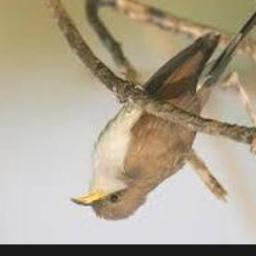Cuckoo: (71, 0, 256, 221)
